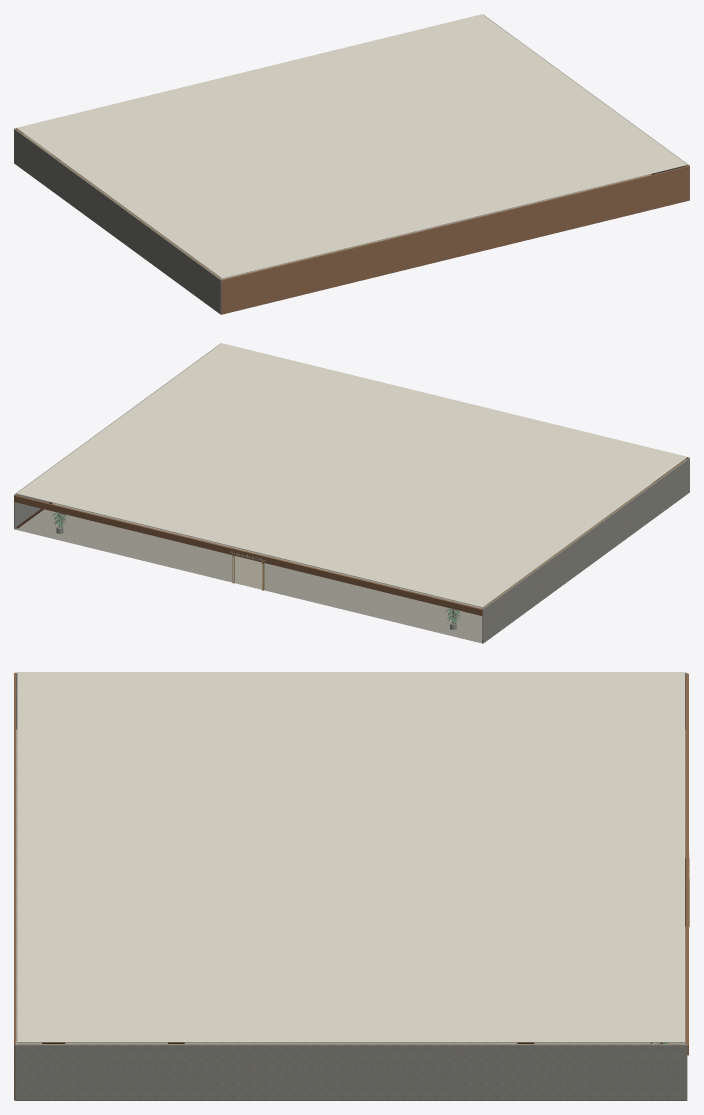
File: bookhouse.glb
3 renders of one model, top to bottom at view 1: azimuth 30°, elevation 25°; view 2: azimuth 150°, elevation 25°; view 3: azimuth 270°, elevation 25°, orthographic. The views are drawn at different scales.
Visible parts, largest first — view 1: Batched AUR-L1-BOOKHOUSE::Warm porcelain, Batched AUR-L1-BOOKHOUSE::Tenant bookhouse, Batched AUR-L1-BOOKHOUSE::Travertine, Batched AUR-L1-BOOKHOUSE::Cream marble; view 2: Batched AUR-L1-BOOKHOUSE::Warm porcelain, Batched AUR-L1-BOOKHOUSE::Cream marble, Batched AUR-L1-BOOKHOUSE::Tenant glass, Batched AUR-L1-BOOKHOUSE::Travertine, Batched AUR-L1-BOOKHOUSE::Tenant bookhouse, Batched AUR-L1-BOOKHOUSE::Bronze; view 3: Batched AUR-L1-BOOKHOUSE::Warm porcelain, Batched AUR-L1-BOOKHOUSE::Travertine, Batched AUR-L1-BOOKHOUSE::Tenant bookhouse, Batched AUR-L1-BOOKHOUSE::Cream marble, Batched AUR-L1-BOOKHOUSE::Bronze.
Boxes of the visible parts, left/top/right/bottom form: Batched AUR-L1-BOOKHOUSE::Warm porcelain: left=16, top=14, right=687, bottom=278; Batched AUR-L1-BOOKHOUSE::Tenant bookhouse: left=14, top=128, right=689, bottom=314; Batched AUR-L1-BOOKHOUSE::Travertine: left=14, top=14, right=689, bottom=314; Batched AUR-L1-BOOKHOUSE::Cream marble: left=51, top=154, right=651, bottom=279; Batched AUR-L1-BOOKHOUSE::Warm porcelain: left=16, top=343, right=687, bottom=607; Batched AUR-L1-BOOKHOUSE::Cream marble: left=15, top=484, right=651, bottom=643; Batched AUR-L1-BOOKHOUSE::Tenant glass: left=15, top=502, right=481, bottom=642; Batched AUR-L1-BOOKHOUSE::Travertine: left=14, top=343, right=689, bottom=643; Batched AUR-L1-BOOKHOUSE::Tenant bookhouse: left=14, top=457, right=688, bottom=615; Batched AUR-L1-BOOKHOUSE::Bronze: left=17, top=459, right=686, bottom=608; Batched AUR-L1-BOOKHOUSE::Warm porcelain: left=17, top=672, right=689, bottom=1042; Batched AUR-L1-BOOKHOUSE::Travertine: left=15, top=672, right=687, bottom=1100; Batched AUR-L1-BOOKHOUSE::Tenant bookhouse: left=14, top=673, right=688, bottom=1100; Batched AUR-L1-BOOKHOUSE::Cream marble: left=16, top=729, right=685, bottom=1044; Batched AUR-L1-BOOKHOUSE::Bronze: left=19, top=857, right=689, bottom=1044.
Size of the model in its own units: 68.16 by 4.97 by 52.29.
13 materials, 4 textured.
